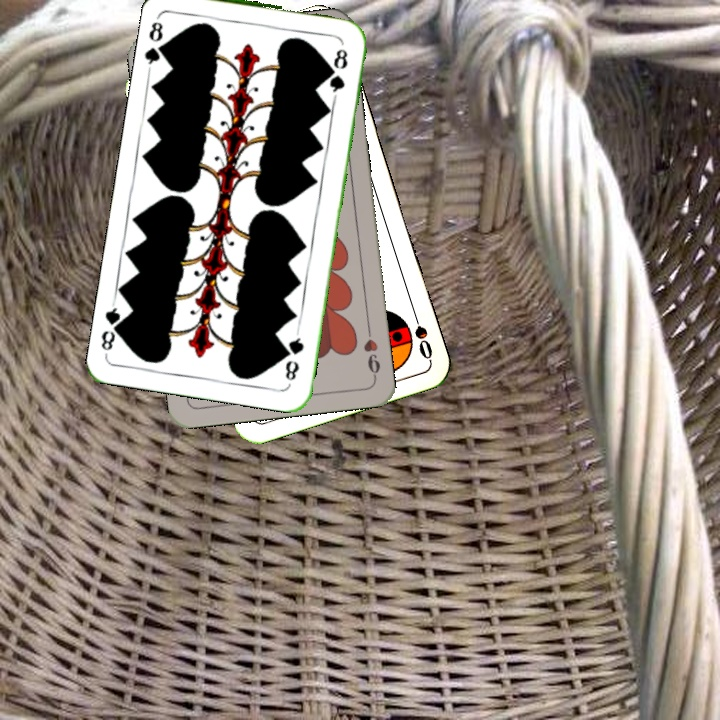G8: (141, 11, 172, 70), (281, 327, 306, 383)
H9: (359, 321, 383, 380)
SO: (408, 304, 435, 362)
